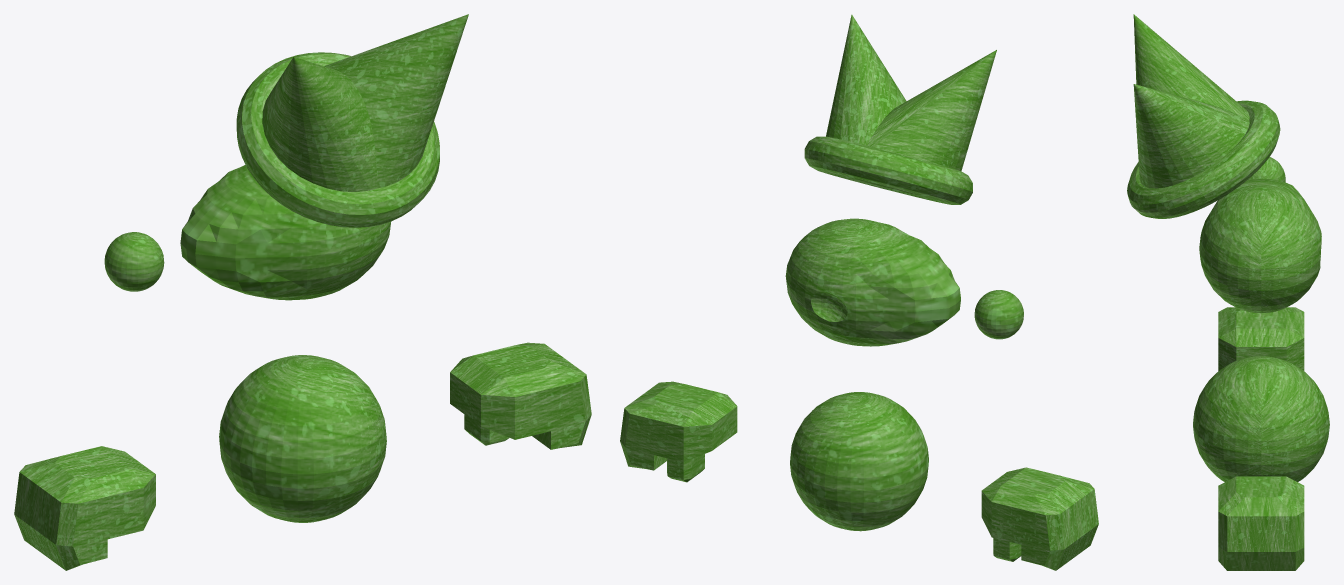
File: AL3_player.obj
The picture shows the model from 3 angles, left to right: view 1: azimuth 30°, elevation 25°; view 2: azimuth 150°, elevation 25°; view 3: azimuth 270°, elevation 25°; orthographic projection. The views are drawn at different scales.
Parts seen in each view (by area): view 1: 立方体.005; view 2: 立方体.005; view 3: 立方体.005.
Part boxes in pixels (bbox=[...]): 立方体.005: bbox=[14, 14, 591, 570]; 立方体.005: bbox=[620, 14, 1098, 570]; 立方体.005: bbox=[1127, 14, 1329, 570].
Size of the model in its own units: 7.36 by 7.05 by 2.96.
1 material, 1 textured.
